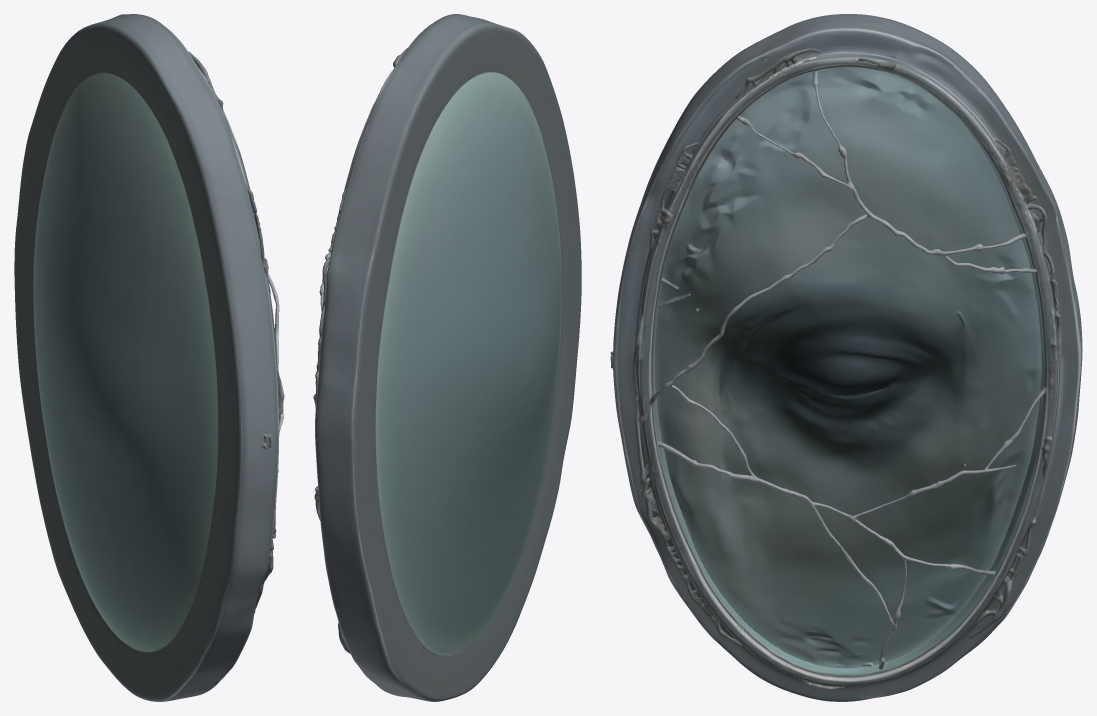
The model's file is object_fractured_mirror.glb.
3 renders of one model, left to right at view 1: azimuth 30°, elevation 25°; view 2: azimuth 150°, elevation 25°; view 3: azimuth 270°, elevation 25°, orthographic.
Visible parts, largest first — view 1: tripo_node_d58a5315-4c1e-45ac-81b7-ff4366d072a3; view 2: tripo_node_d58a5315-4c1e-45ac-81b7-ff4366d072a3; view 3: tripo_node_d58a5315-4c1e-45ac-81b7-ff4366d072a3.
Boxes of the visible parts, x1,y1,x2,y2 form: tripo_node_d58a5315-4c1e-45ac-81b7-ff4366d072a3: (14, 14, 284, 701); tripo_node_d58a5315-4c1e-45ac-81b7-ff4366d072a3: (313, 14, 581, 701); tripo_node_d58a5315-4c1e-45ac-81b7-ff4366d072a3: (610, 14, 1082, 701).
Bounding box in the file's own units: 0.2284 × 1 × 0.6335.
Materials: 1 (1 with a texture image).
